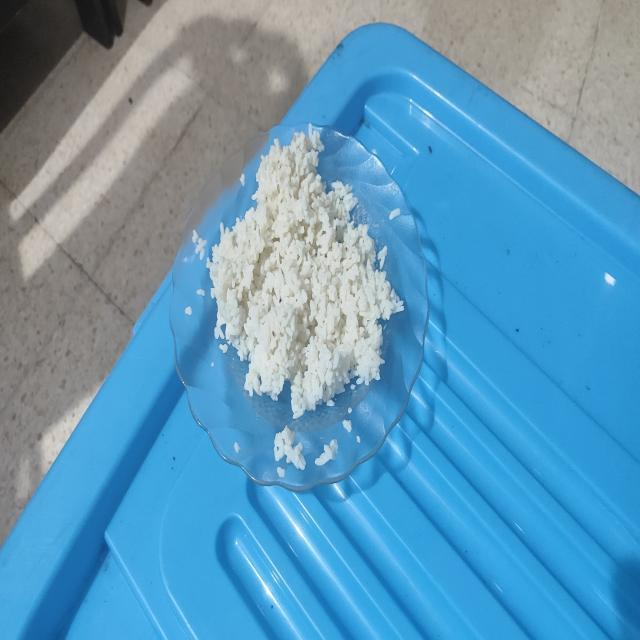nasi_putih: (208, 124, 404, 418)
